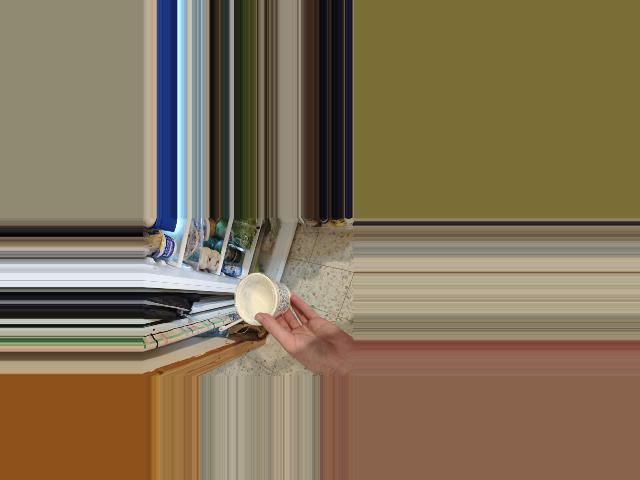cotage: (228, 280, 293, 318)
